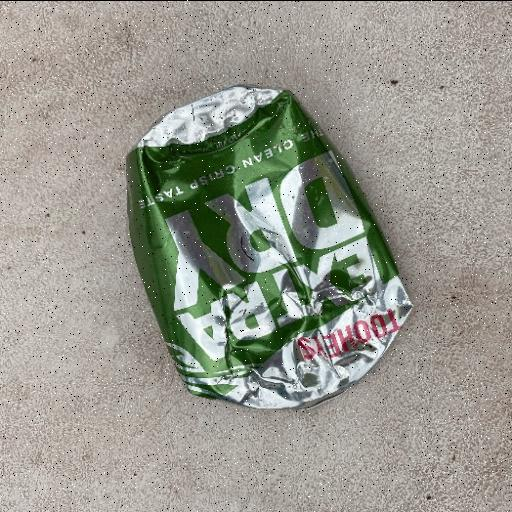Metal: (124, 83, 415, 411)
